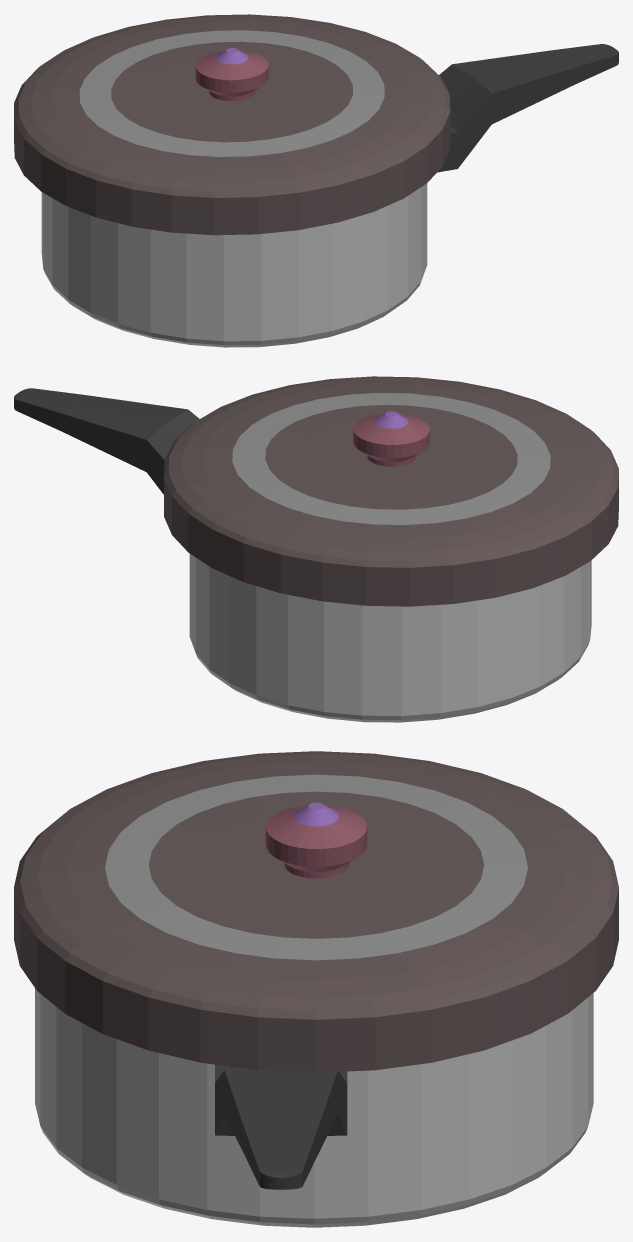
Rendered from Res01_CookingPan.fbx.
3 renders of one model, top to bottom at view 1: azimuth 30°, elevation 25°; view 2: azimuth 150°, elevation 25°; view 3: azimuth 270°, elevation 25°, orthographic. The views are drawn at different scales.
Visible parts, largest first — view 1: Res01_CookingPan; view 2: Res01_CookingPan; view 3: Res01_CookingPan.
Part boxes in pixels (bbox=[...]): Res01_CookingPan: bbox=[14, 14, 618, 347]; Res01_CookingPan: bbox=[14, 376, 618, 722]; Res01_CookingPan: bbox=[14, 751, 618, 1227].
Size of the model in its own units: 171 by 65.66 by 112.
